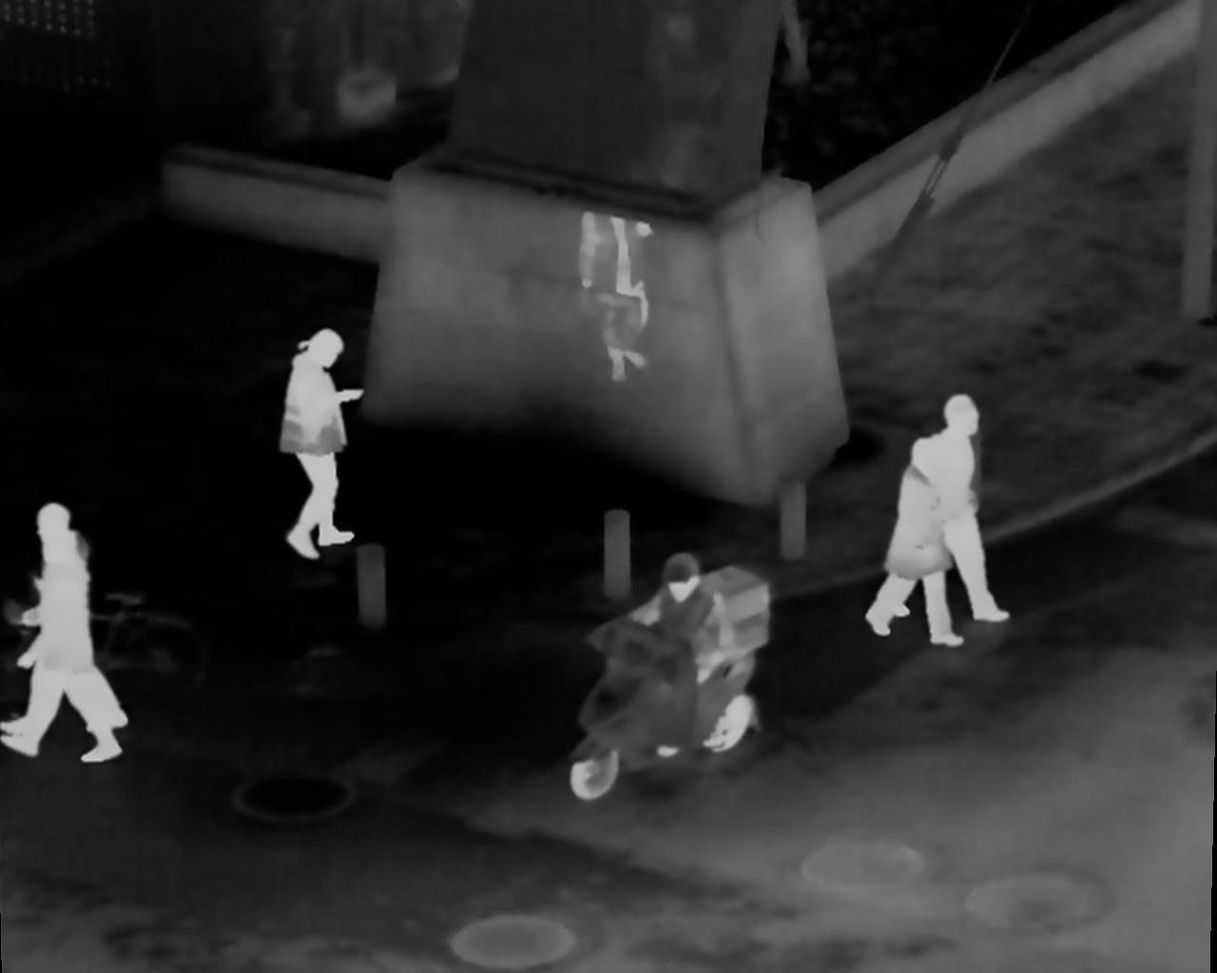person: (283, 326, 365, 570), (876, 434, 961, 652), (936, 391, 1011, 625), (634, 550, 714, 758)
